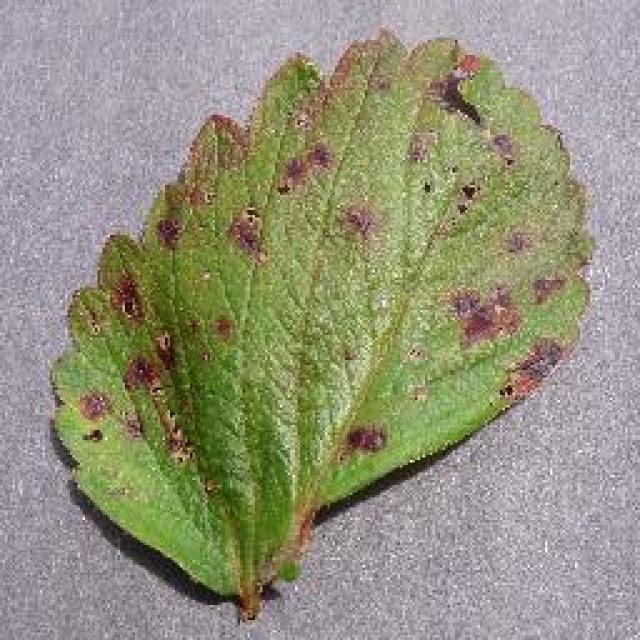Strawberry leaf scorch: (97, 78, 573, 457)
